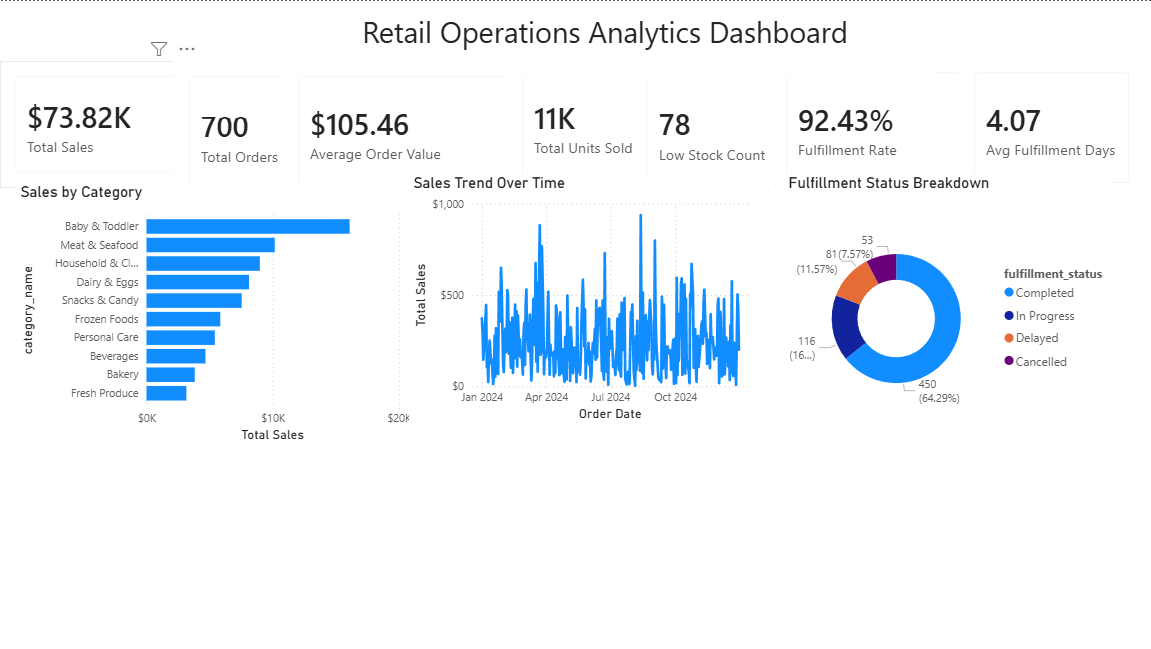

This screenshot's page, from the dashboard's own definition file:
{"tool":"powerbi","page":{"name":"Page 1","canvas":[1280,720],"ordinal":0},"visuals":[{"type":"cardVisual","fields":{"Data":["categories.Total Sales"]},"box":[0,66.4,221.8,141.8],"z":0},{"type":"cardVisual","fields":{"Data":["categories.Total Orders"]},"box":[193.6,66.4,149.1,163.6],"z":1000},{"type":"cardVisual","fields":{"Data":["categories.Average Order Value"]},"box":[314.5,66.4,280.9,157.3],"z":2000},{"type":"cardVisual","fields":{"Data":["categories.Total Units Sold"]},"box":[563.6,62.7,186.4,154.5],"z":3000},{"type":"cardVisual","fields":{"Data":["categories.Low Stock Count"]},"box":[702.7,62.7,182.7,167.3],"z":4000},{"type":"cardVisual","fields":{"Data":["categories.Fulfillment Rate"]},"box":[856.4,62.7,244.5,157.3],"z":5000},{"type":"cardVisual","fields":{"Data":["categories.Average Fulfillment Time"]},"box":[1065.5,62.7,206.4,157.3],"z":6000},{"type":"textbox","box":[222.7,6.4,814.5,76.4],"z":7000},{"type":"clusteredBarChart","title":"Sales by Category","fields":{"Y":["categories.Total Sales"],"Category":["categories.category_name"]},"box":[17.3,201.8,444.5,503.6],"z":8000},{"type":"lineChart","title":"Sales Trend Over Time","fields":{"Category":["orders.order_date.Variation.Date Hierarchy.Year","orders.order_date.Variation.Date Hierarchy.Quarter","orders.order_date.Variation.Date Hierarchy.Month","orders.order_date.Variation.Date Hierarchy.Day"],"Y":["categories.Total Sales"]},"box":[476.4,208.2,396.4,316.4],"z":9000},{"type":"donutChart","title":"Fulfillment Status Breakdown","fields":{"Y":["categories.Total Orders"],"Category":["orders.fulfillment_status"]},"box":[897.3,214.5,363.6,301.8],"z":10000}]}

Visuals, with their boxes in screenshot pixels (x1, y1, x2, y2), scaled from the page's 1280x720 canvas onto the 1151x649 screenshot:
cardVisual - categories.Total Sales: select_region(0, 60, 199, 188)
cardVisual - categories.Total Orders: select_region(174, 60, 308, 207)
cardVisual - categories.Average Order Value: select_region(283, 60, 535, 202)
cardVisual - categories.Total Units Sold: select_region(507, 57, 674, 196)
cardVisual - categories.Low Stock Count: select_region(632, 57, 796, 207)
cardVisual - categories.Fulfillment Rate: select_region(770, 57, 990, 198)
cardVisual - categories.Average Fulfillment Time: select_region(958, 57, 1144, 198)
textbox: select_region(200, 6, 933, 75)
"Sales by Category" clusteredBarChart: select_region(16, 182, 415, 636)
"Sales Trend Over Time" lineChart: select_region(428, 188, 785, 473)
"Fulfillment Status Breakdown" donutChart: select_region(807, 193, 1134, 465)
